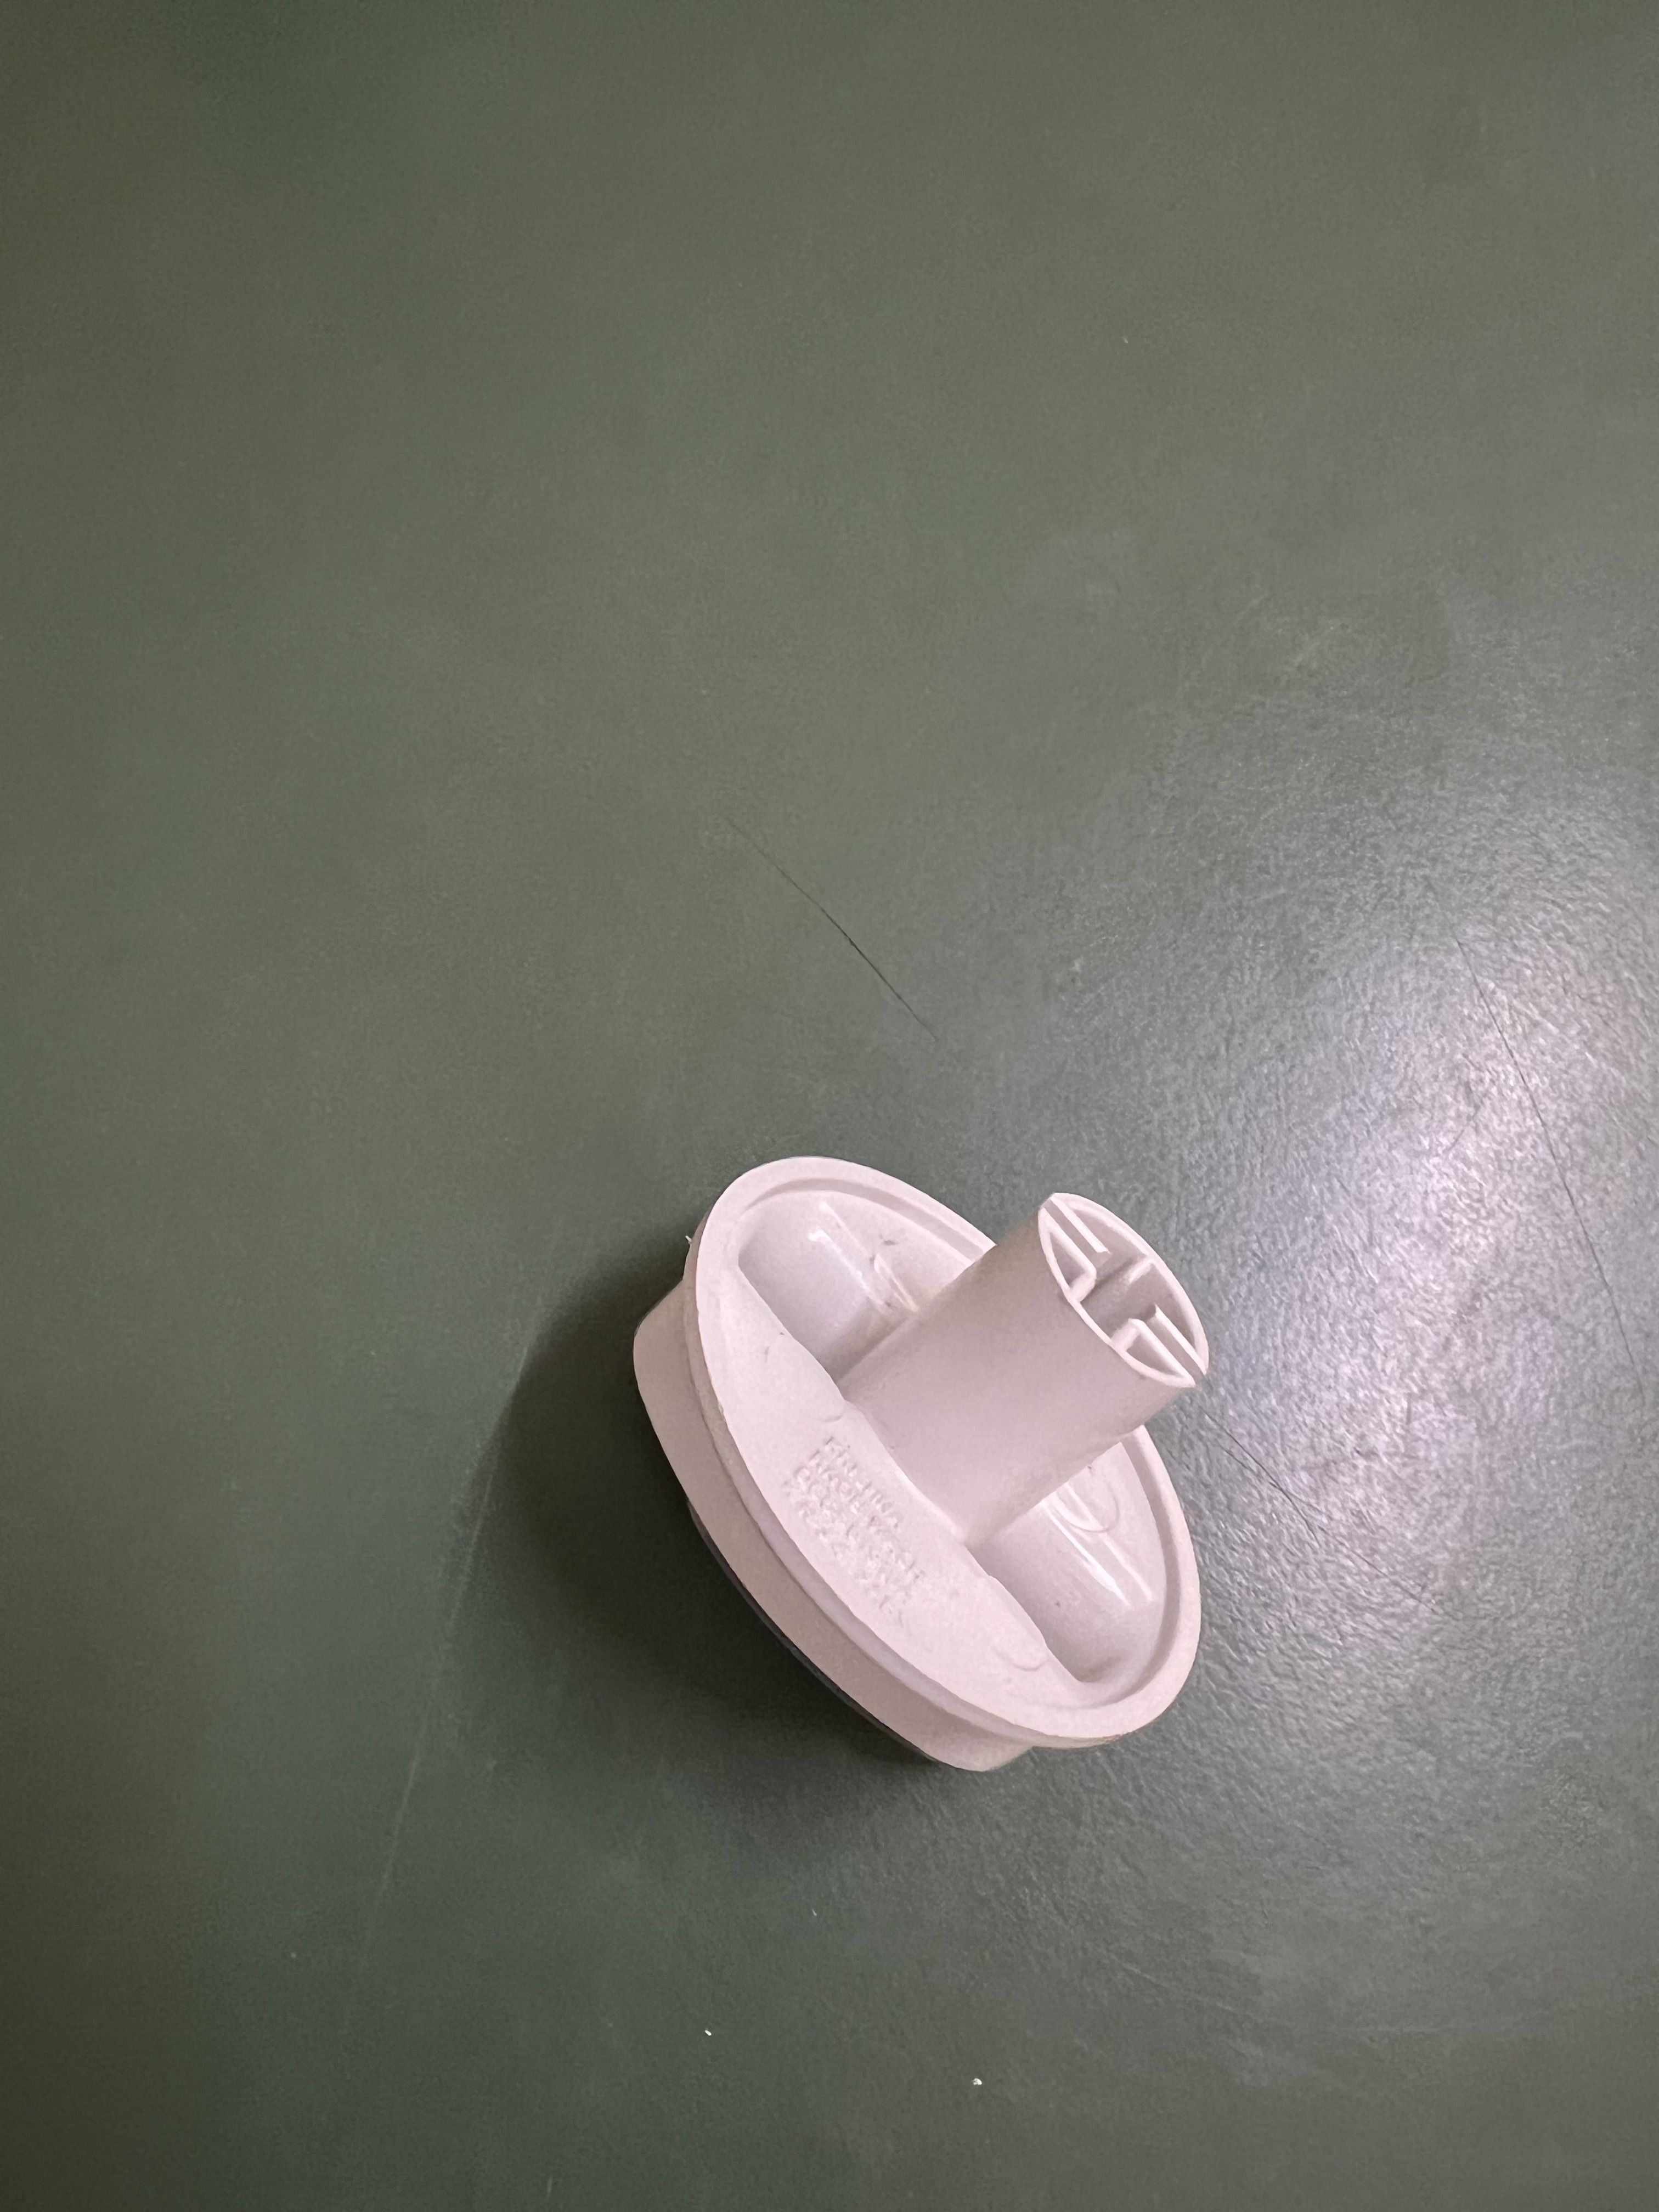regulator: (600, 1125, 1254, 1815)
